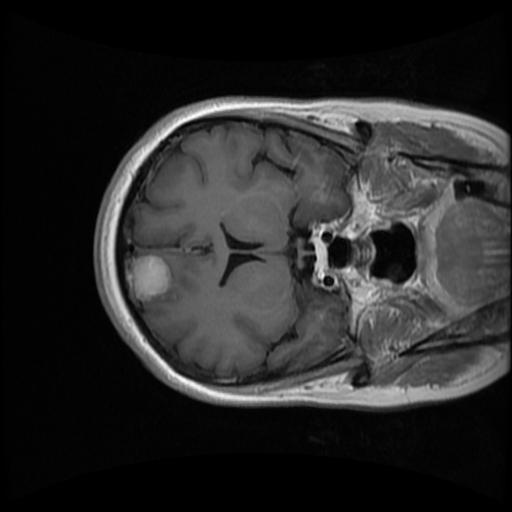meningioma: (124, 256, 171, 302)
